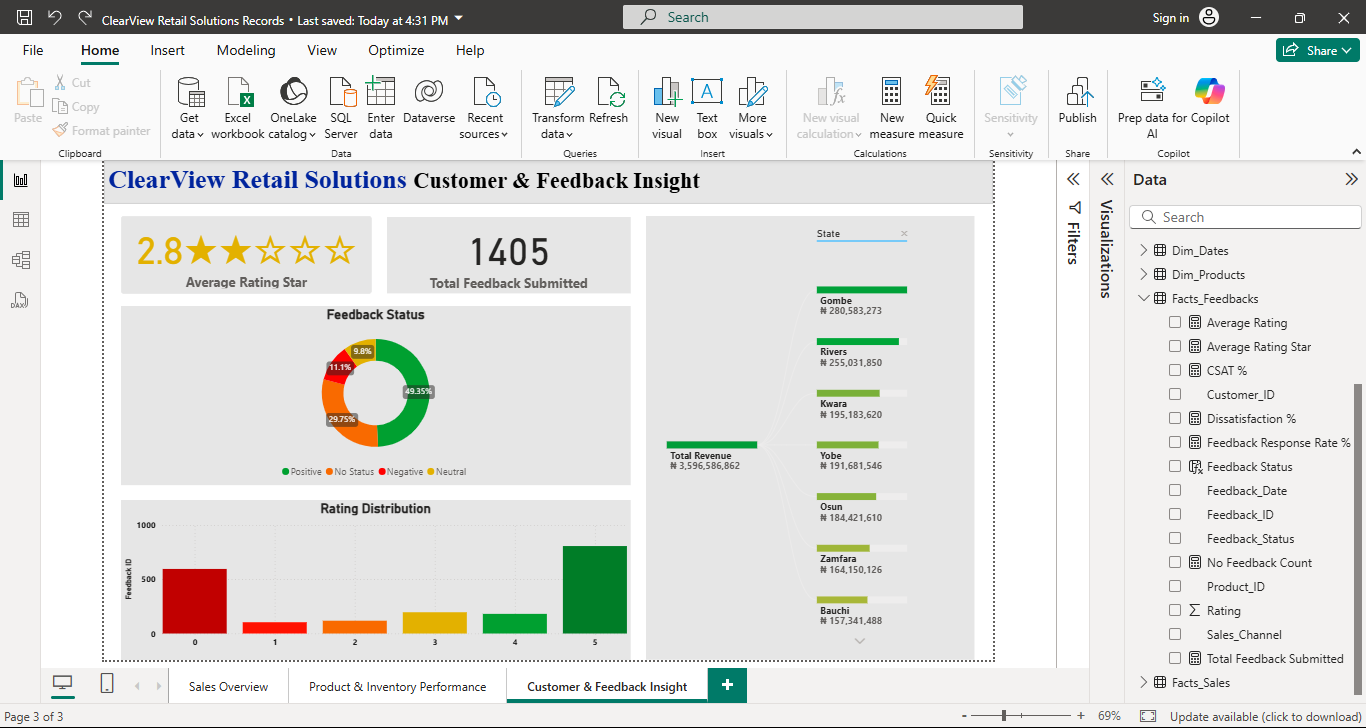

What the dashboard file says about the page in this screenshot:
{"tool":"powerbi","page":{"name":"Customer & Feedback Insight","canvas":[1280,720],"ordinal":2},"visuals":[{"type":"textbox","box":[0,0,1280,63.3],"z":0},{"type":"card","fields":{"Values":["Facts_Feedbacks.Average Rating Star"]},"box":[25,81,360.9,111.9],"z":1000},{"type":"card","fields":{"Values":["Facts_Feedbacks.Total Feedback Submitted"]},"box":[408,82.5,350.6,110.5],"z":2000},{"type":"donutChart","title":"Feedback Status","fields":{"Category":["Facts_Feedbacks.Feedback Status"],"Y":["CountNonNull(Facts_Feedbacks.Feedback_ID)"]},"box":[25,210.6,733.5,257.8],"z":3000},{"type":"columnChart","title":"Rating Distribution","fields":{"Y":["CountNonNull(Facts_Feedbacks.Feedback_ID)"],"Category":["Facts_Feedbacks.Rating"],"Series":["Facts_Feedbacks.Rating"]},"box":[25,489,733.5,231.3],"z":4000},{"type":"decompositionTreeVisual","fields":{"Analyze":["Facts_Sales.Total Revenue"],"ExplainBy":["Facts_Sales.State"]},"box":[780.7,81,472.8,639.3],"z":5000}]}

Visuals, with their boxes on the page's 1280x720 design canvas (x1, y1, x2, y2). These are canvas units, not pixel positions in the 1366x728 screenshot, which may show the page scaled, cropped or inside an application window:
textbox: locate(0, 0, 1280, 63)
card - Facts_Feedbacks.Average Rating Star: locate(25, 81, 386, 193)
card - Facts_Feedbacks.Total Feedback Submitted: locate(408, 82, 759, 193)
"Feedback Status" donutChart: locate(25, 211, 758, 468)
"Rating Distribution" columnChart: locate(25, 489, 758, 720)
decompositionTreeVisual - Facts_Sales.Total Revenue x Facts_Sales.State: locate(781, 81, 1254, 720)
